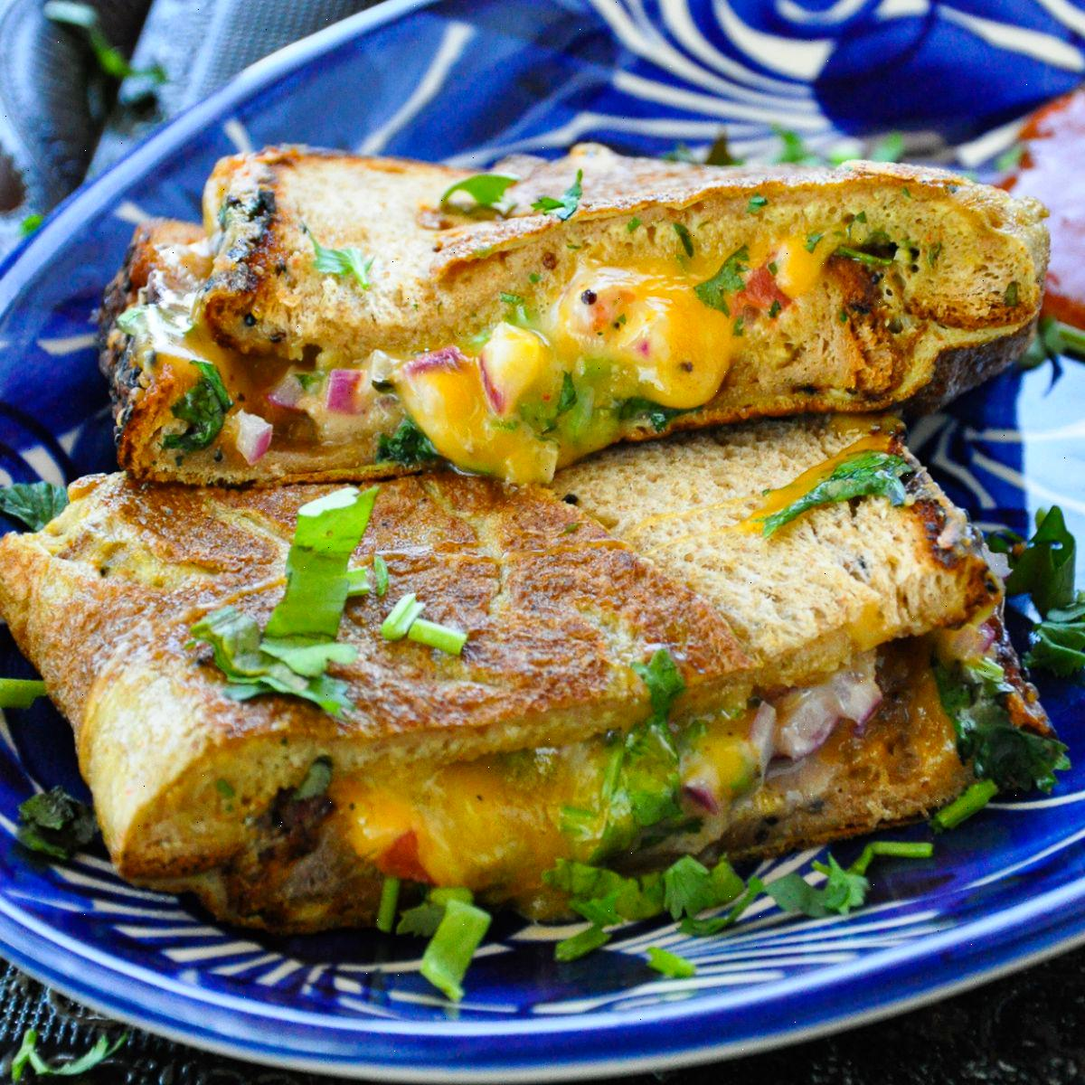omelette: (67, 161, 905, 812)
